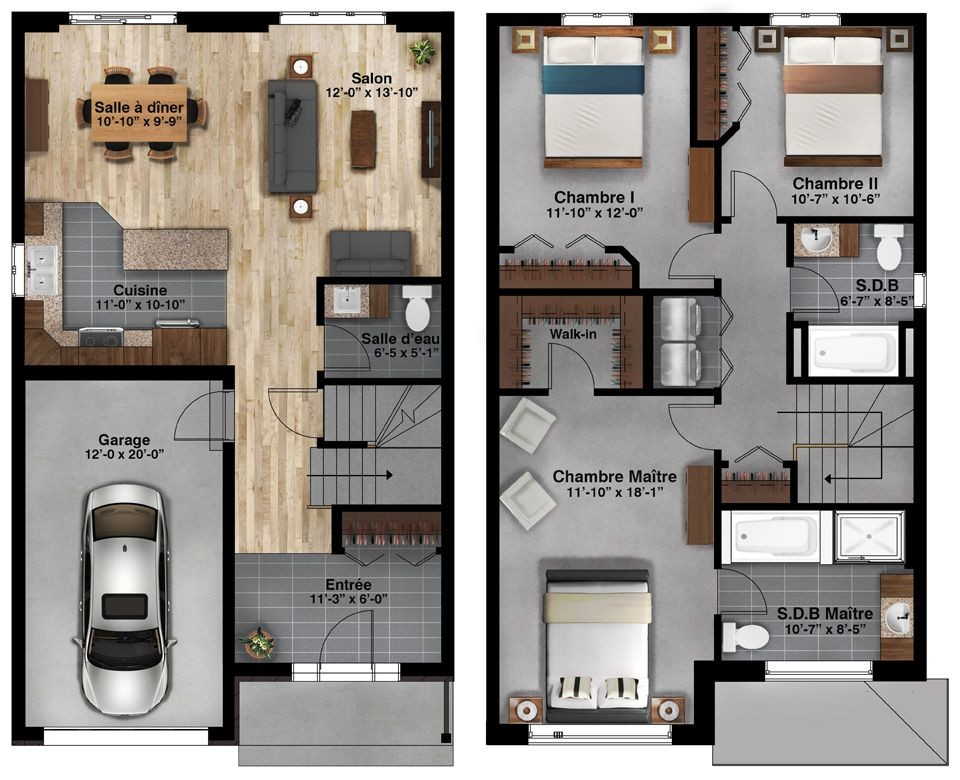door: (313, 607, 379, 663), (264, 384, 317, 444), (170, 385, 223, 445), (323, 320, 374, 377), (792, 262, 843, 316), (664, 401, 715, 455), (544, 335, 595, 389), (721, 564, 772, 618), (727, 167, 780, 215), (665, 230, 713, 281)
room: (12, 13, 455, 380), (487, 387, 715, 744), (486, 11, 722, 295), (712, 13, 926, 222), (787, 216, 925, 385)
